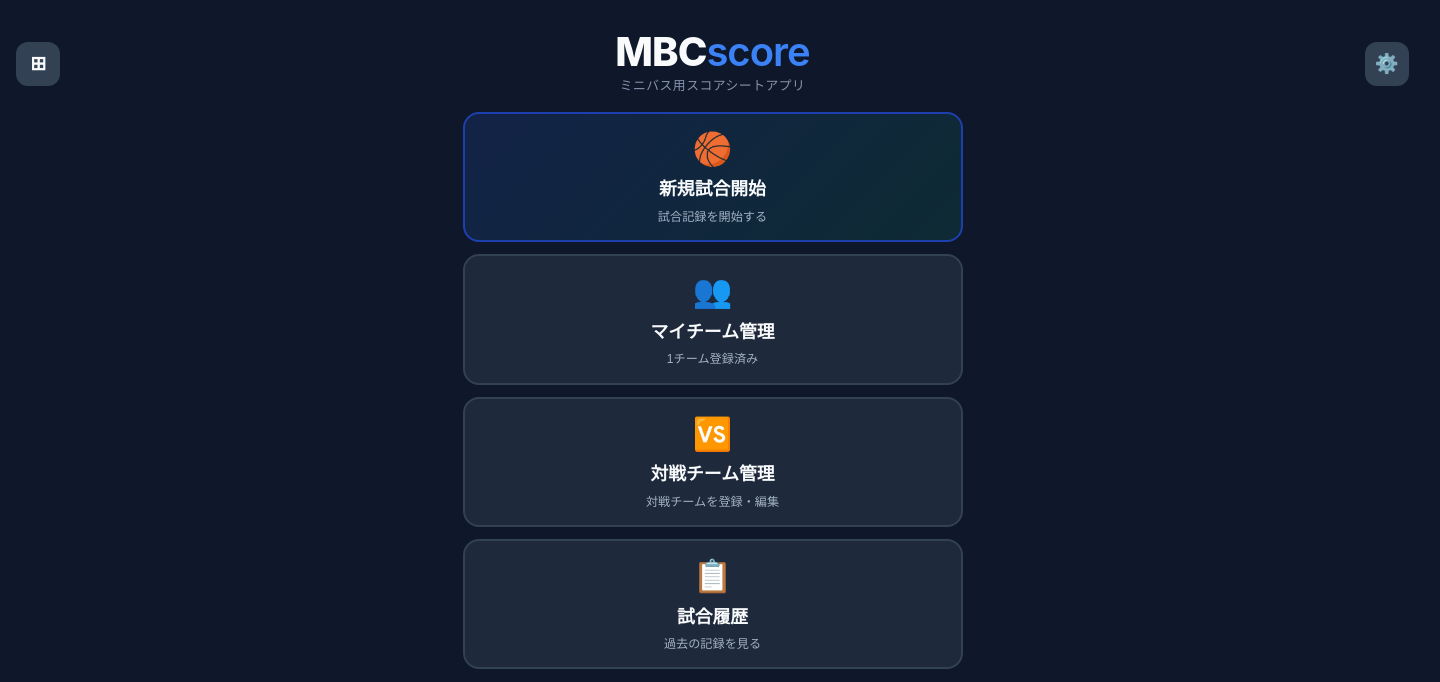
Test: App: 新規試合開始時のセッション上書き警告 › 進行中セッションが無ければ警告なしで試合設定に進む
Click the text "新規試合開始".
click(713, 187)  # box [659,174,766,200]
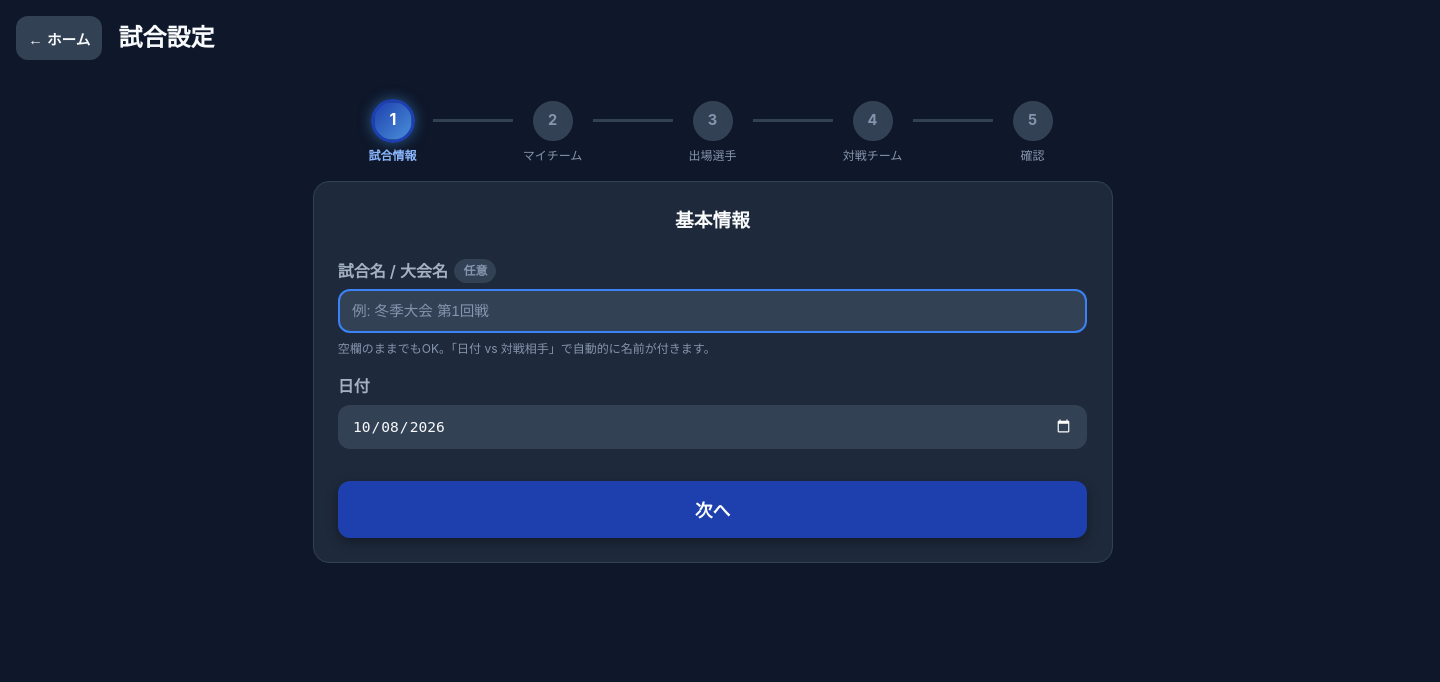
Result: the heading "基本情報" is shown at [675,209,750,232]
